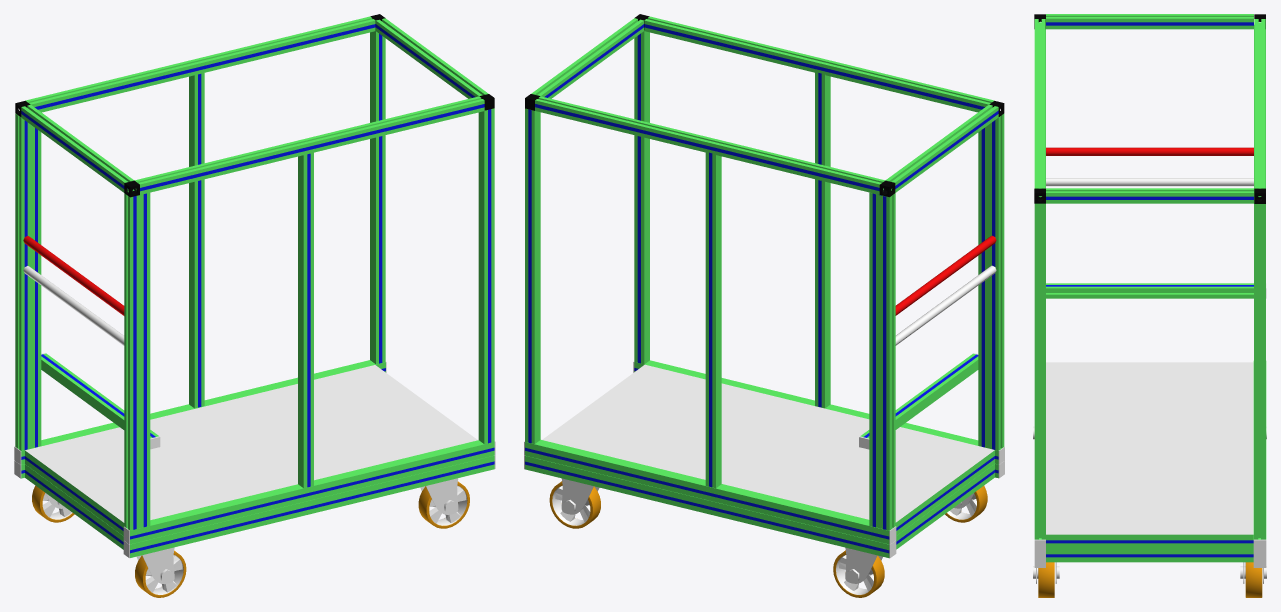
Rendered from RC09 Kisten (Küchenmaterial).FBX.
3 renders of one model, left to right at view 1: azimuth 30°, elevation 25°; view 2: azimuth 150°, elevation 25°; view 3: azimuth 270°, elevation 25°, orthographic.
Visible parts, largest first — view 1: Trolly_5; view 2: Trolly_5; view 3: Trolly_5.
Part boxes in pixels (x1,y1,x2,y2): Trolly_5: (14, 14, 495, 597); Trolly_5: (524, 14, 1004, 597); Trolly_5: (1033, 14, 1266, 597).
Size of the model in its own units: 14.24 by 15.65 by 7.82.
